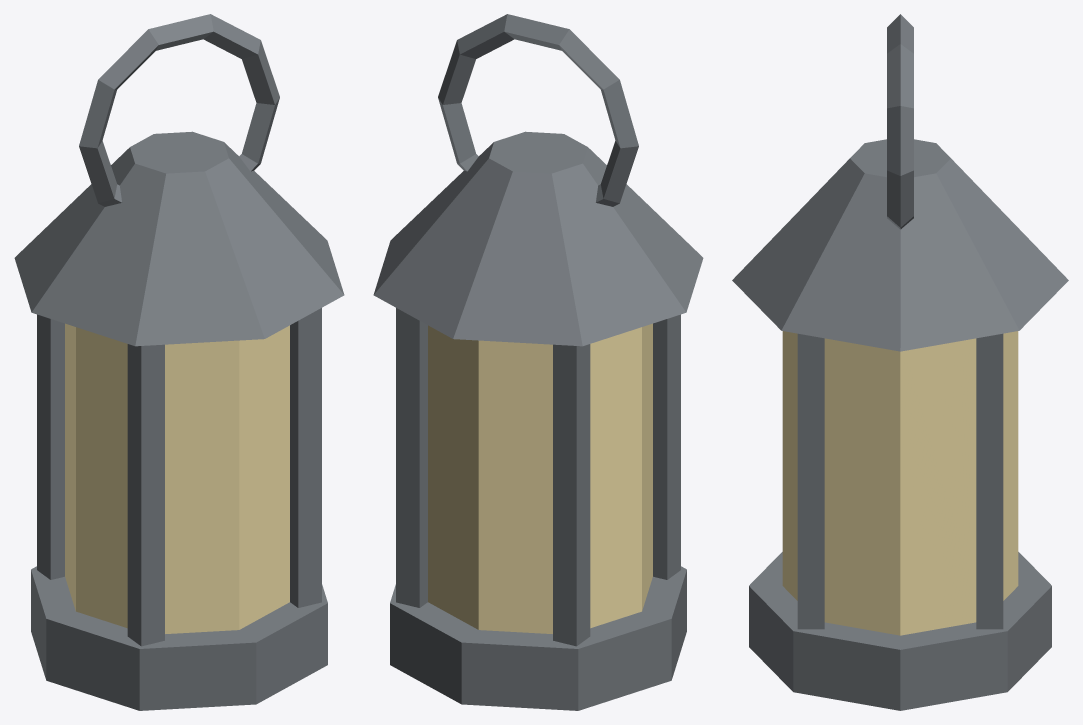
File: SM_Lantern.fbx
3 views of the same model, side by side, from view 1: azimuth 30°, elevation 25°; view 2: azimuth 150°, elevation 25°; view 3: azimuth 270°, elevation 25° (orthographic).
Parts seen in each view (by area): view 1: SM_Lantern; view 2: SM_Lantern; view 3: SM_Lantern.
Boxes of the visible parts, x1,y1,x2,y2 form: SM_Lantern: [14, 14, 344, 710]; SM_Lantern: [373, 14, 703, 710]; SM_Lantern: [732, 14, 1068, 710].
Size of the model in its own units: 0.2 by 0.4047 by 0.2.
